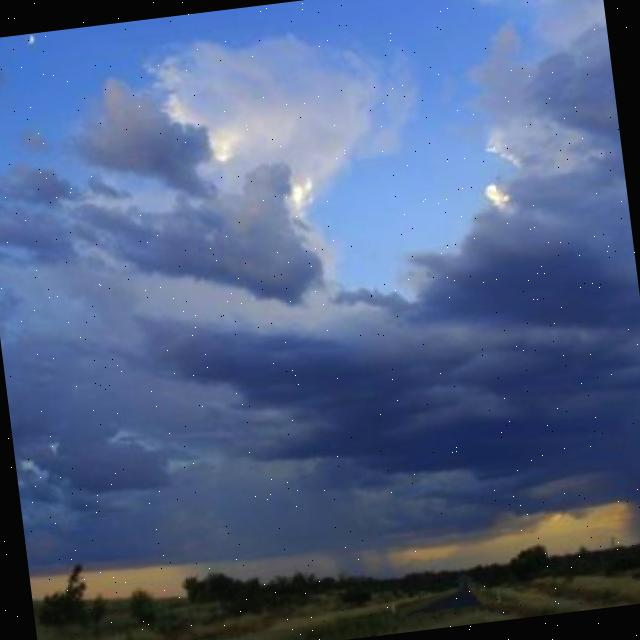Cb: (1, 1, 640, 508)
